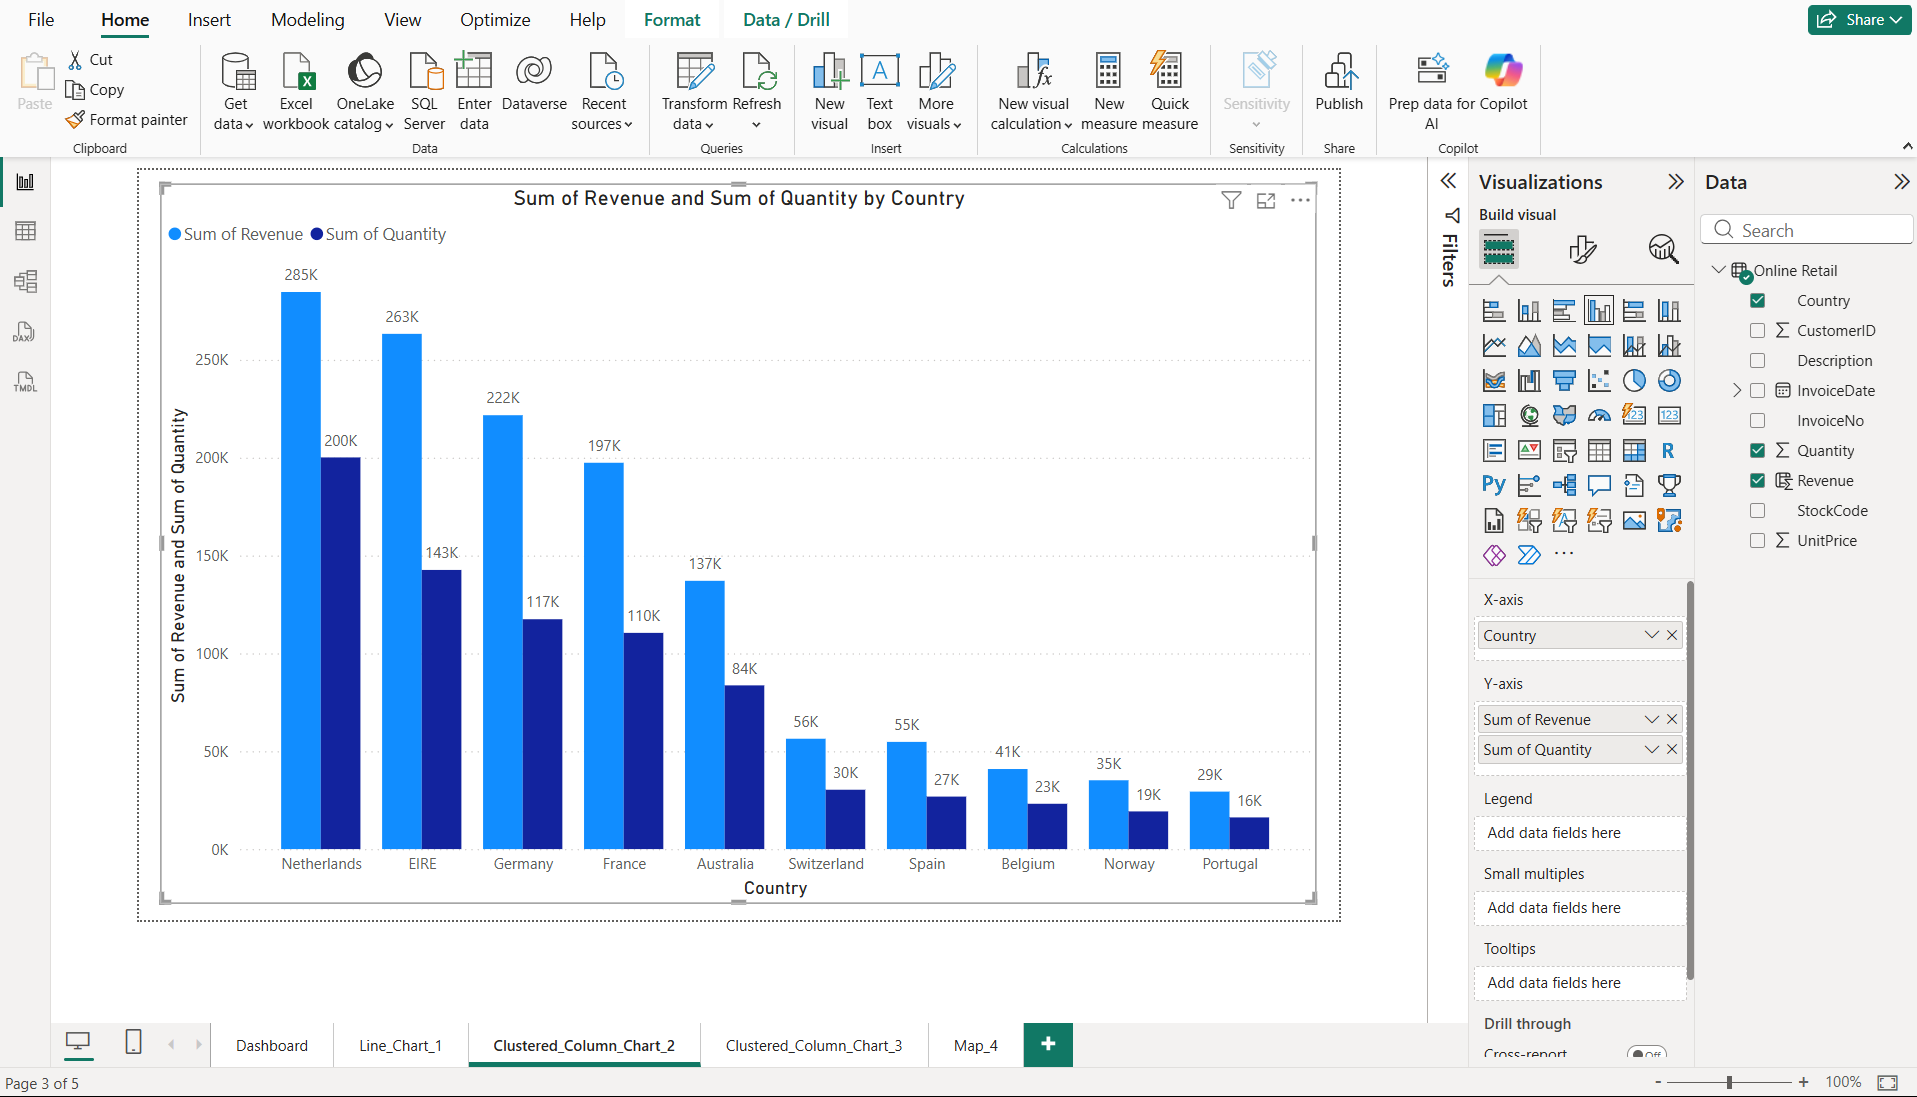

What the dashboard file says about the page in this screenshot:
{"tool":"powerbi","page":{"name":"Clustered_Column_Chart_2","canvas":[960,600],"ordinal":2},"visuals":[{"type":"clusteredColumnChart","fields":{"Category":["Online Retail.Country"],"Y":["Sum(Online Retail.Revenue)","Sum(Online Retail.Quantity)"]},"box":[17,11,925,576],"z":0}]}

Visuals, with their boxes on the page's 960x600 design canvas (x1, y1, x2, y2). These are canvas units, not pixel positions in the 1917x1097 screenshot, which may show the page scaled, cropped or inside an application window:
clusteredColumnChart - Online Retail.Country x Sum(Online Retail.Revenue): [17, 11, 942, 587]
